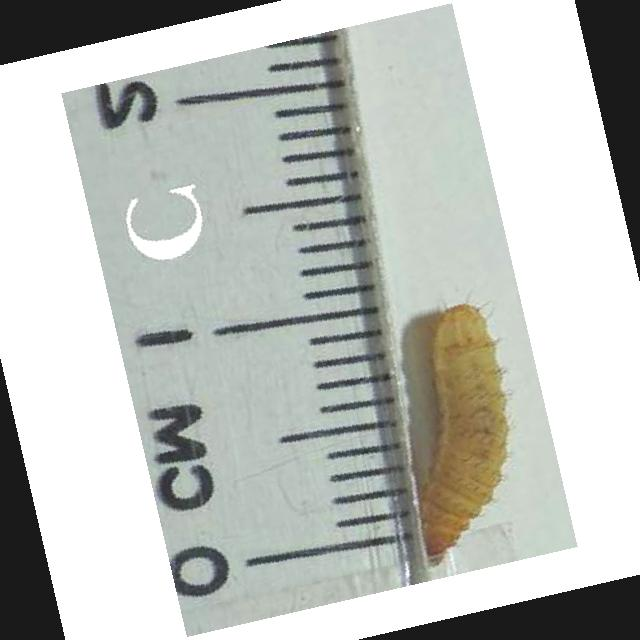Maggot: (411, 302, 508, 564)
